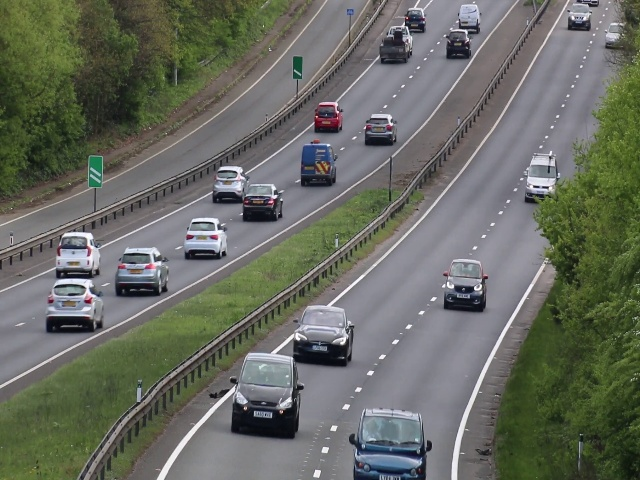car: (226, 351, 304, 436), (350, 408, 430, 480), (291, 303, 356, 366), (44, 276, 104, 337), (113, 244, 169, 299), (441, 258, 487, 315), (55, 231, 101, 276), (183, 216, 229, 258), (299, 142, 338, 189), (525, 151, 557, 203), (242, 181, 284, 220), (380, 22, 414, 63), (212, 164, 250, 200), (361, 110, 398, 144), (313, 100, 344, 134), (443, 27, 471, 60), (456, 1, 481, 34), (404, 4, 426, 35), (567, 3, 591, 31), (604, 23, 618, 47)
